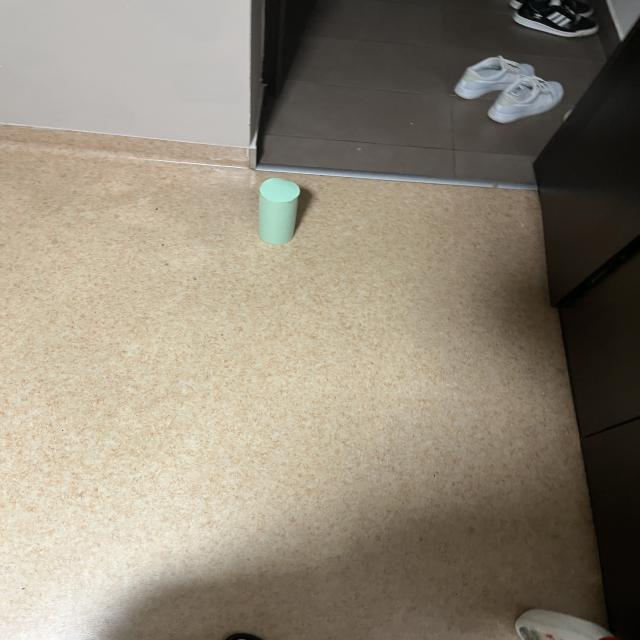meta: (259, 178, 300, 244)
